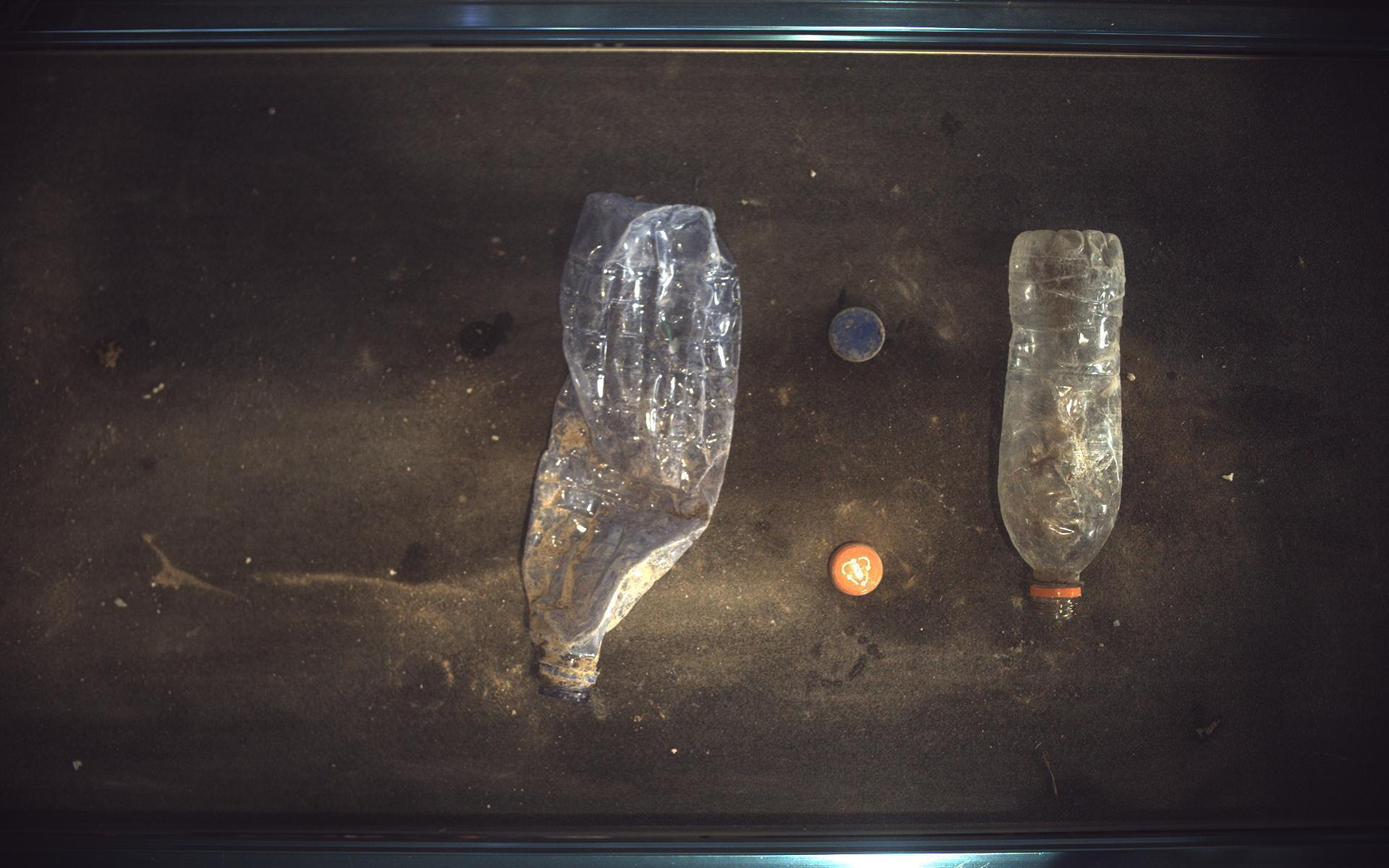general_w: (523, 192, 742, 702), (1001, 229, 1128, 619), (831, 307, 887, 362), (831, 543, 885, 597)
